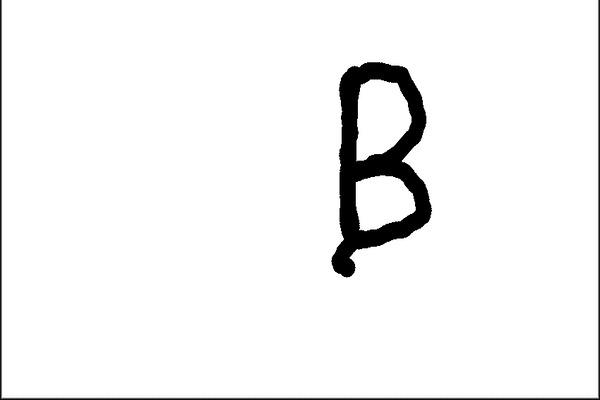B: (324, 51, 438, 283)
